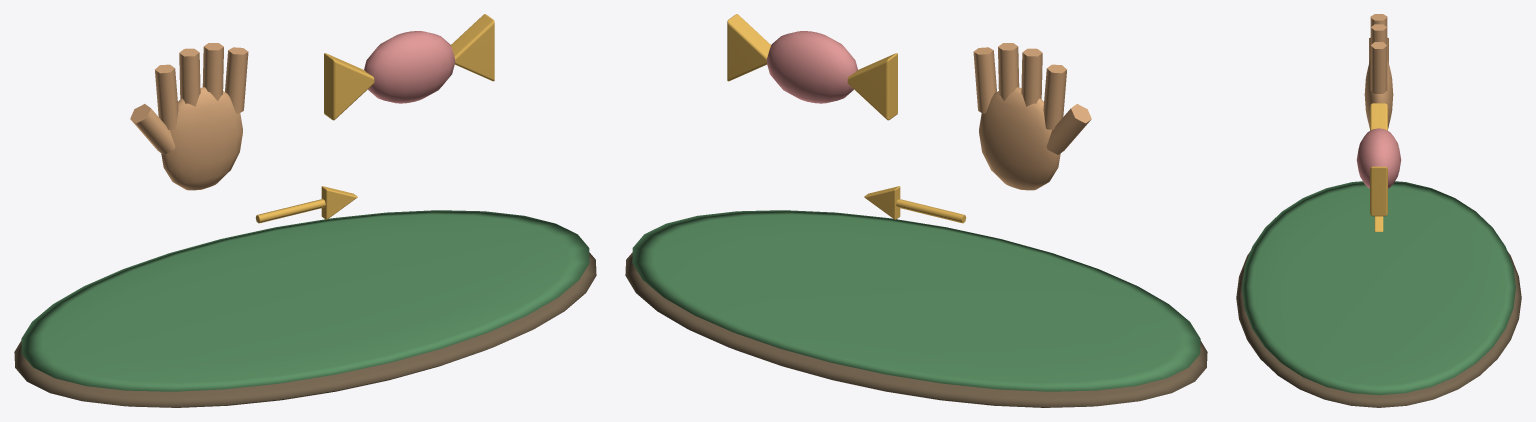
Rendered from complete-second-hand-treat-point.glb.
3 renders of one model, left to right at view 1: azimuth 30°, elevation 25°; view 2: azimuth 150°, elevation 25°; view 3: azimuth 270°, elevation 25°, orthographic. The views are drawn at different scales.
Parts seen in each view (by area): view 1: complete-second-hand-treat-point_surface_01, complete-second-hand-treat-point_surface_02, complete-second-hand-treat-point_surface_00, complete-second-hand-treat-point_surface_04, complete-second-hand-treat-point_surface_03; view 2: complete-second-hand-treat-point_surface_01, complete-second-hand-treat-point_surface_02, complete-second-hand-treat-point_surface_00, complete-second-hand-treat-point_surface_04, complete-second-hand-treat-point_surface_03; view 3: complete-second-hand-treat-point_surface_01, complete-second-hand-treat-point_surface_00, complete-second-hand-treat-point_surface_02, complete-second-hand-treat-point_surface_03, complete-second-hand-treat-point_surface_04.
Boxes of the visible parts, x1,y1,x2,y2 form: complete-second-hand-treat-point_surface_01: (21, 210, 589, 391); complete-second-hand-treat-point_surface_02: (130, 43, 248, 190); complete-second-hand-treat-point_surface_00: (14, 252, 596, 407); complete-second-hand-treat-point_surface_04: (255, 14, 494, 223); complete-second-hand-treat-point_surface_03: (364, 31, 455, 103); complete-second-hand-treat-point_surface_01: (632, 210, 1200, 391); complete-second-hand-treat-point_surface_02: (973, 43, 1091, 190); complete-second-hand-treat-point_surface_00: (625, 252, 1207, 407); complete-second-hand-treat-point_surface_04: (727, 14, 966, 223); complete-second-hand-treat-point_surface_03: (766, 31, 857, 103); complete-second-hand-treat-point_surface_01: (1242, 181, 1515, 395); complete-second-hand-treat-point_surface_00: (1236, 251, 1521, 407); complete-second-hand-treat-point_surface_02: (1364, 14, 1393, 128); complete-second-hand-treat-point_surface_03: (1356, 128, 1401, 188); complete-second-hand-treat-point_surface_04: (1370, 103, 1387, 231).
Size of the model in its own units: 4.56 by 2.4 by 2.5.
